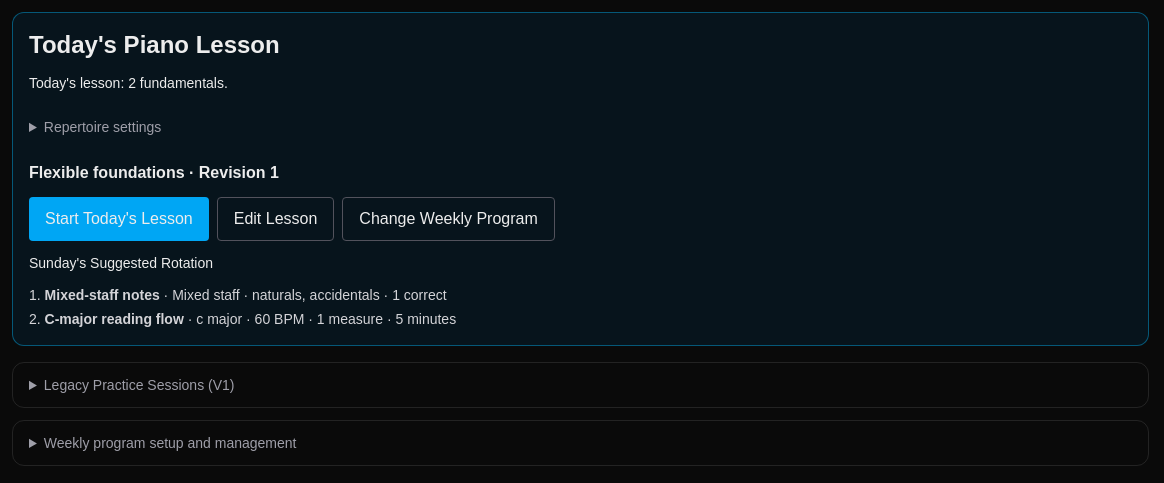
Test case: one-action morning launch through the existing V2 owner › uses existing MIDI connection from Start (disconnected), retaining the selection after denial
Step 1. Click the button "Start Today's Lesson" → (119, 219), box [29,197,209,241]
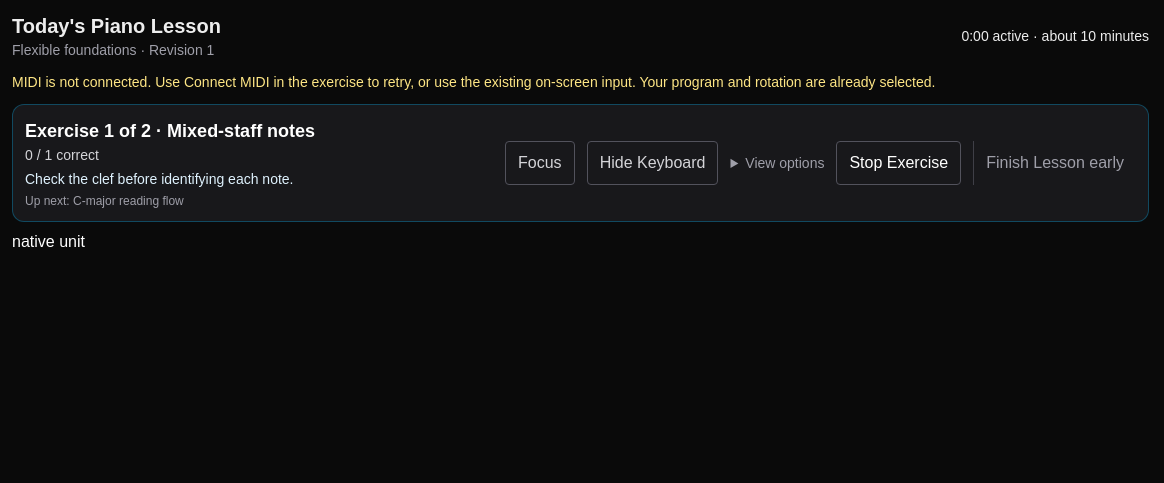
Expected: the element with test id "native" is shown, [12,230,85,254]
Expected: the text "MIDI is not connected" is shown, [12,74,936,90]
